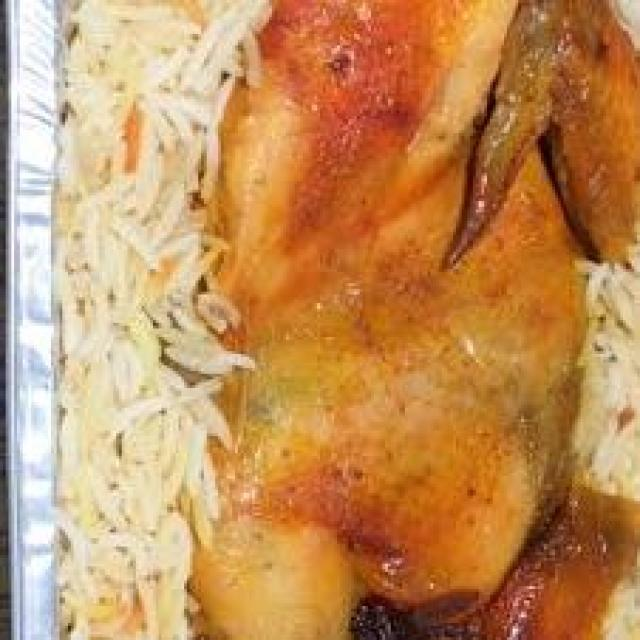chicken: (210, 2, 632, 640)
